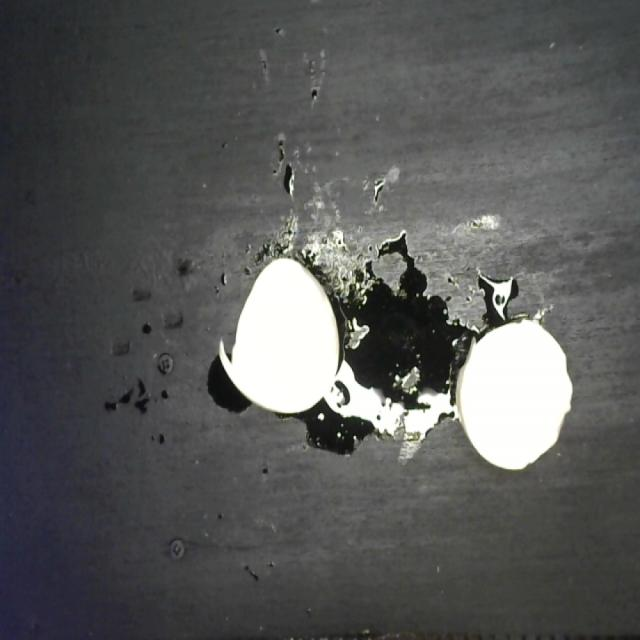biodegradable: (215, 251, 576, 476)
